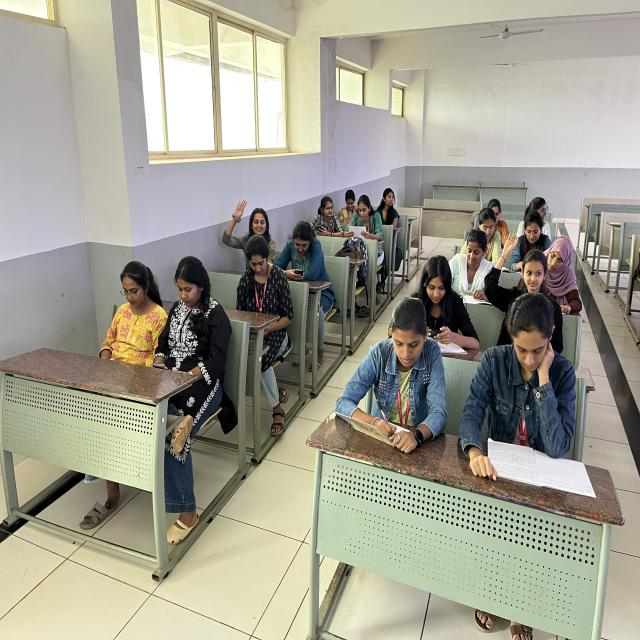Hand Rising: (223, 204, 276, 274)
Reading: (459, 294, 579, 478), (509, 210, 553, 274), (453, 230, 495, 294), (347, 195, 388, 257), (480, 209, 506, 259)
Using Phone: (160, 255, 237, 520), (272, 218, 320, 376), (236, 263, 293, 367), (420, 253, 474, 349), (312, 196, 340, 241), (336, 190, 360, 233)
Writing: (346, 296, 441, 456), (540, 235, 582, 314)
